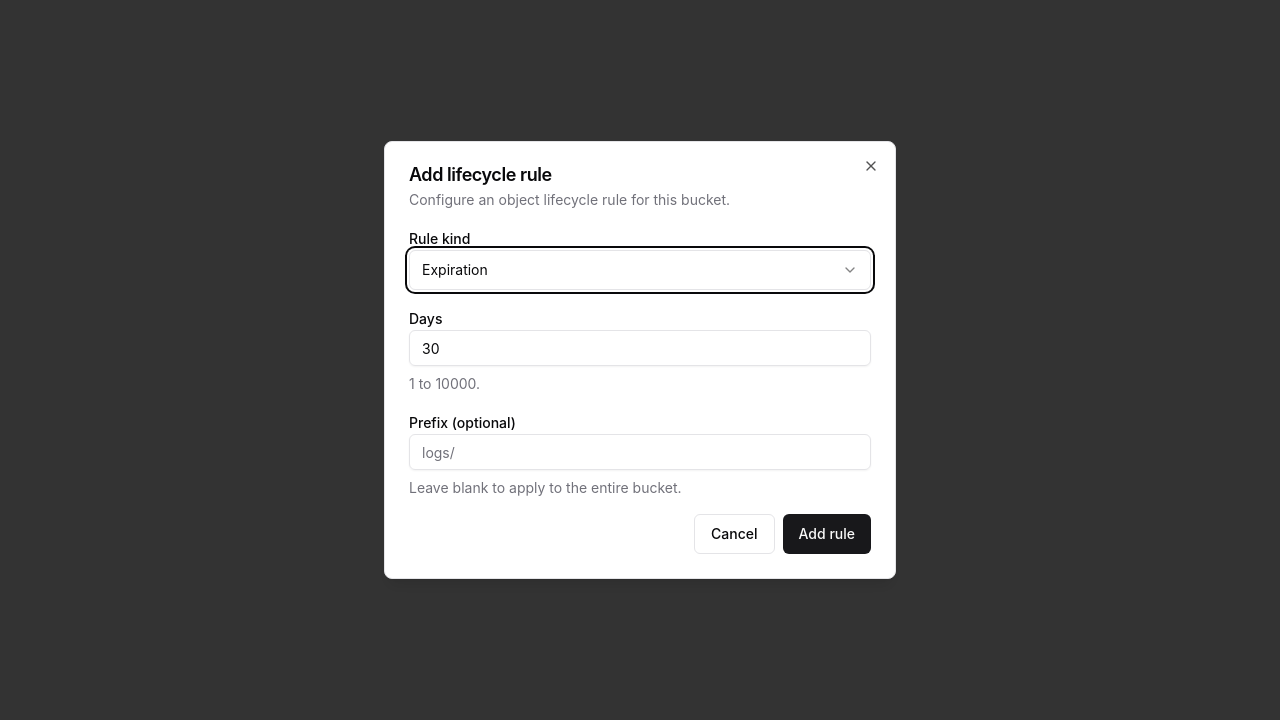
Test: CreateRuleDialog › shows noncurrent versioning warning when versioningEnabled is false
Note: Switch to noncurrent-expiration kind
Click the dropdown named "rule kind" at (455, 270), box top-left (409, 250), bottom-right (871, 290)
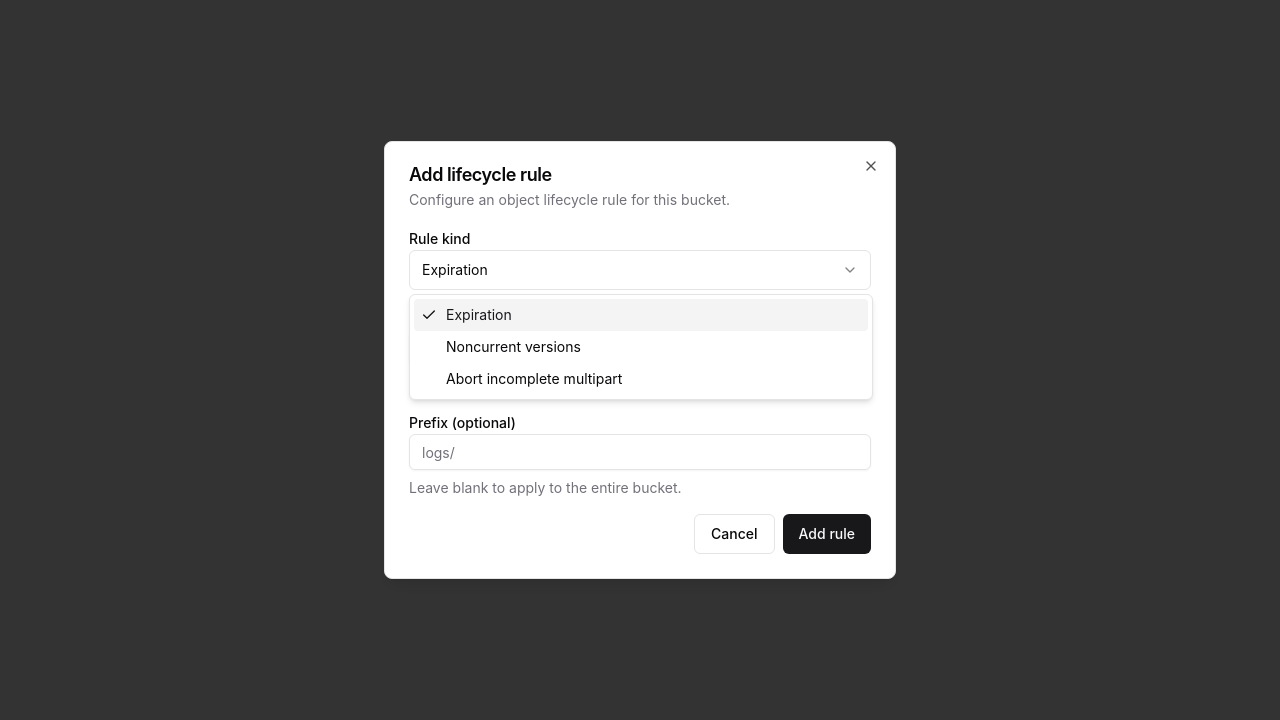
Click the option "Noncurrent versions" at (513, 346), box top-left (446, 338), bottom-right (581, 355)
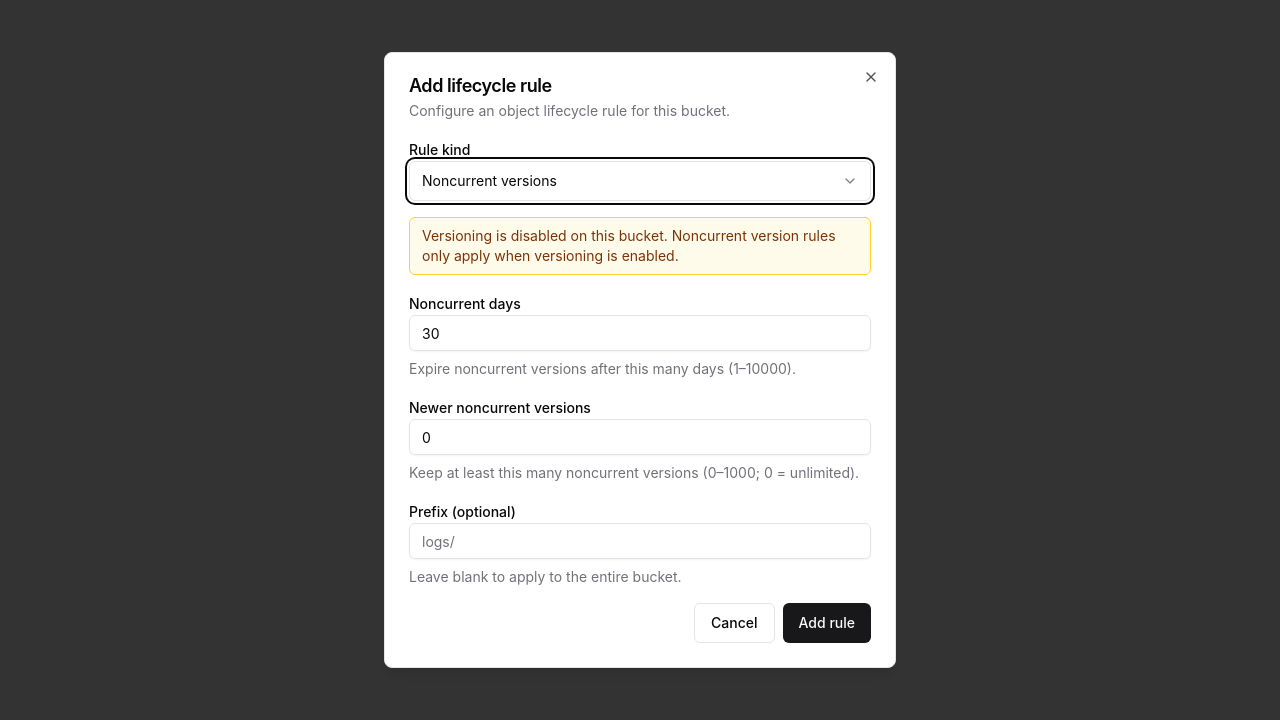
Expected: the message is shown, top-left (409, 217), bottom-right (871, 275)
